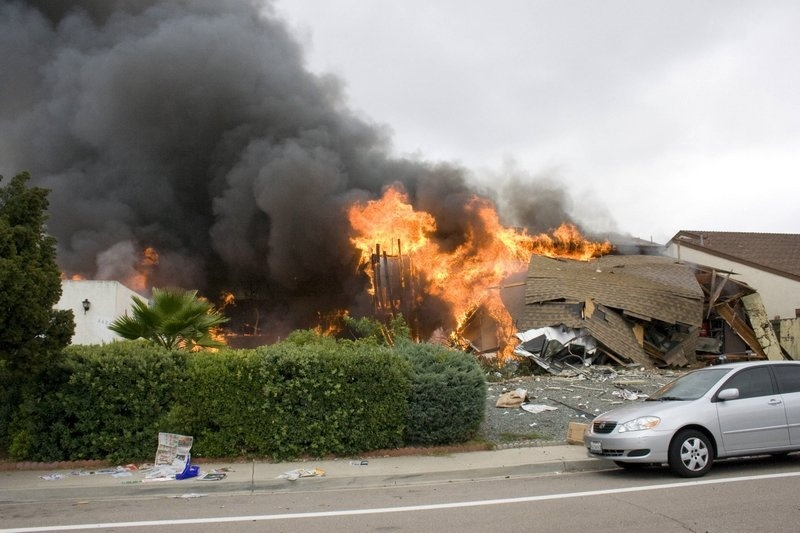fire: (344, 187, 617, 365), (181, 294, 236, 353), (127, 245, 160, 294)
